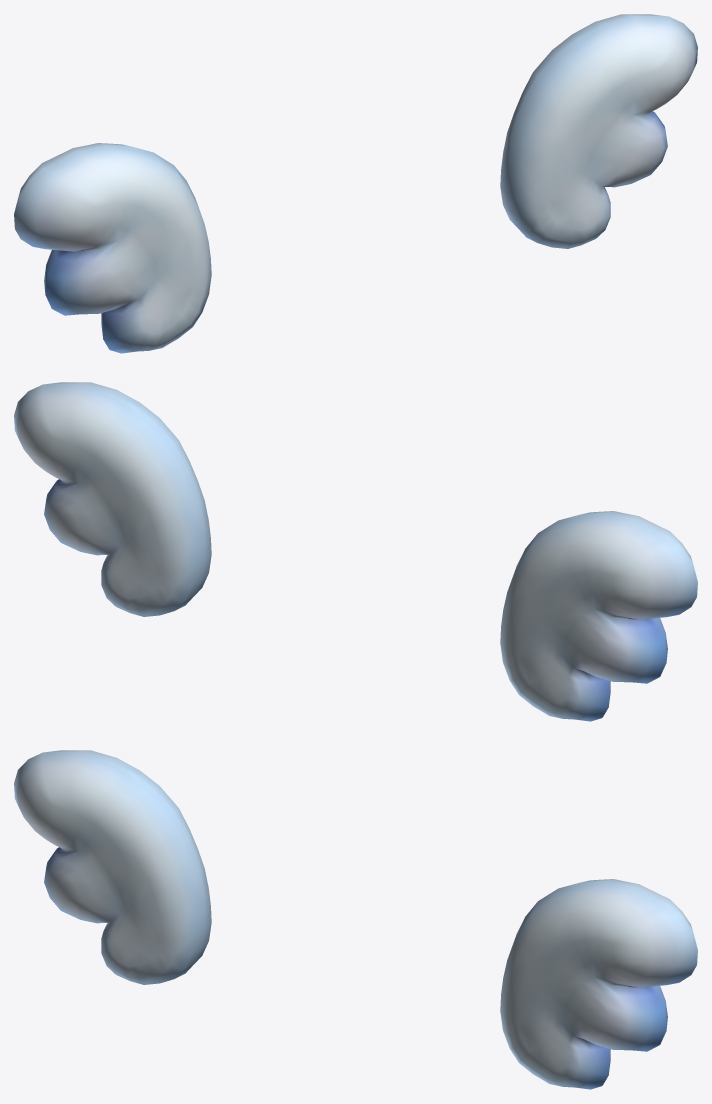
3 renders of one model, top to bottom at view 1: azimuth 30°, elevation 25°; view 2: azimuth 150°, elevation 25°; view 3: azimuth 330°, elevation 25°, orthographic.
Visible parts, largest first — view 1: ef_model_001; view 2: ef_model_001; view 3: ef_model_001.
Boxes of the visible parts, x1=… form: ef_model_001: x1=14, y1=14, x2=697, y2=353; ef_model_001: x1=14, y1=382, x2=697, y2=721; ef_model_001: x1=14, y1=750, x2=697, y2=1089.
Bounding box in the file's own units: 163 × 49.03 × 18.98.
